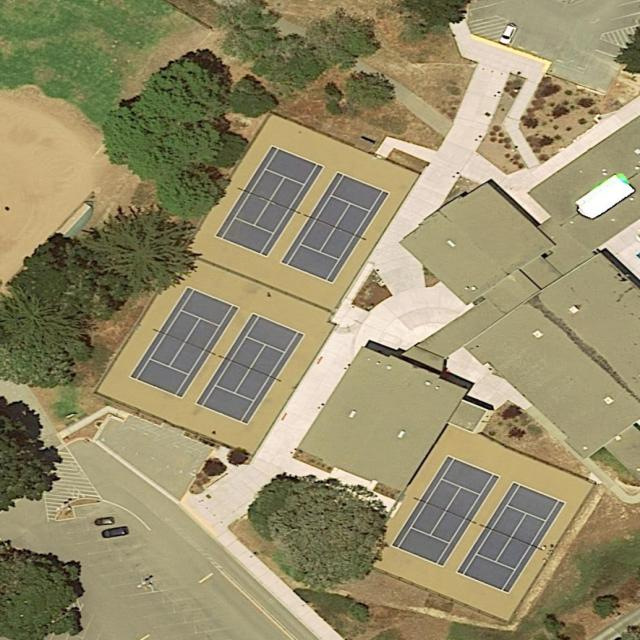small-vehicle: (498, 23, 519, 47), (101, 526, 129, 539), (95, 516, 116, 527)
